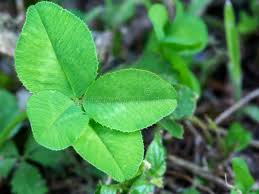4-clover: (14, 3, 176, 178)
